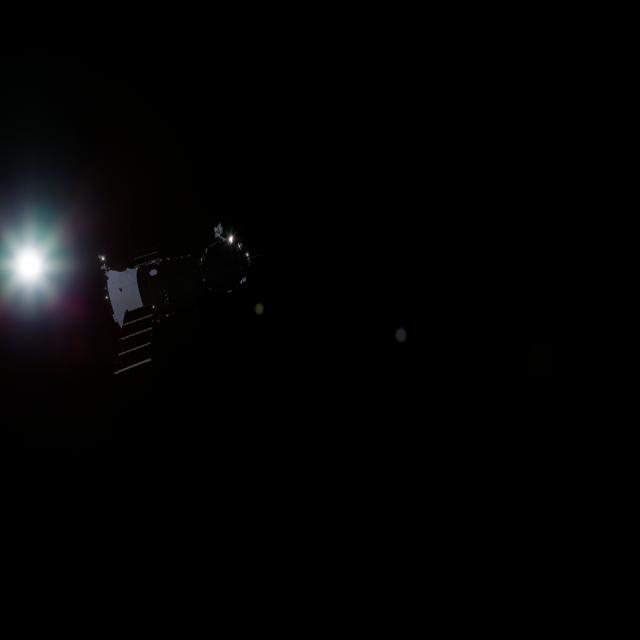Satellites revolving around earth: (95, 218, 256, 378)
